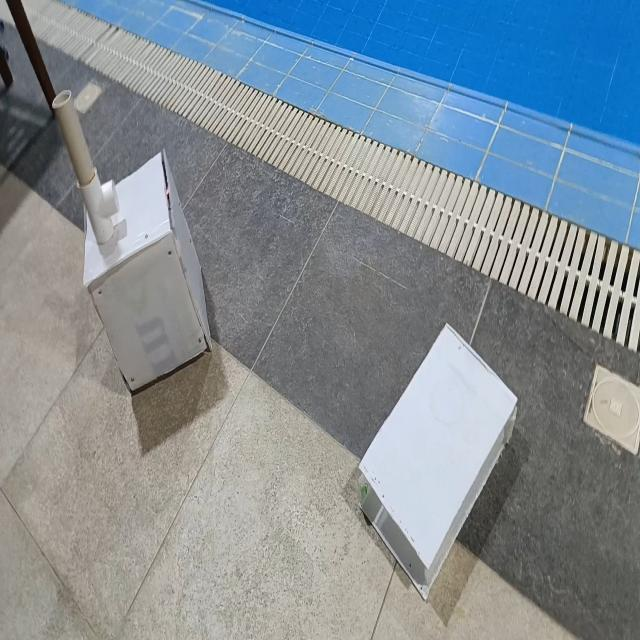Cube: (82, 146, 212, 394)
Cuboid: (357, 320, 518, 601)
